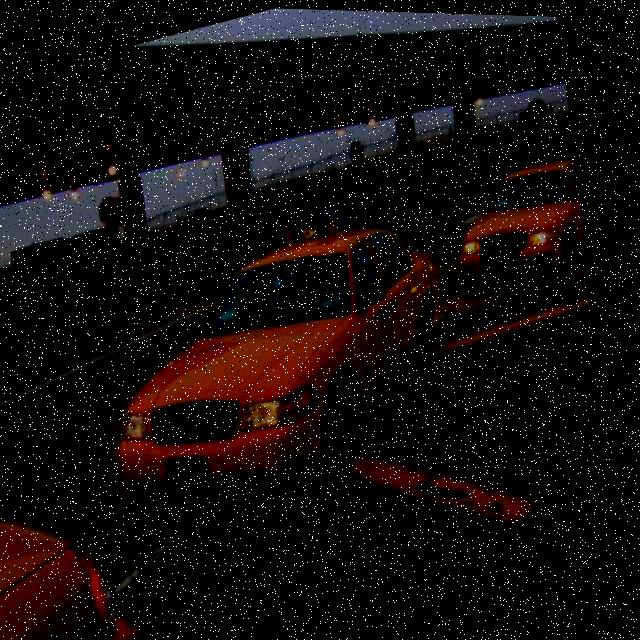license_plate: (179, 452, 228, 494), (498, 250, 524, 270)
